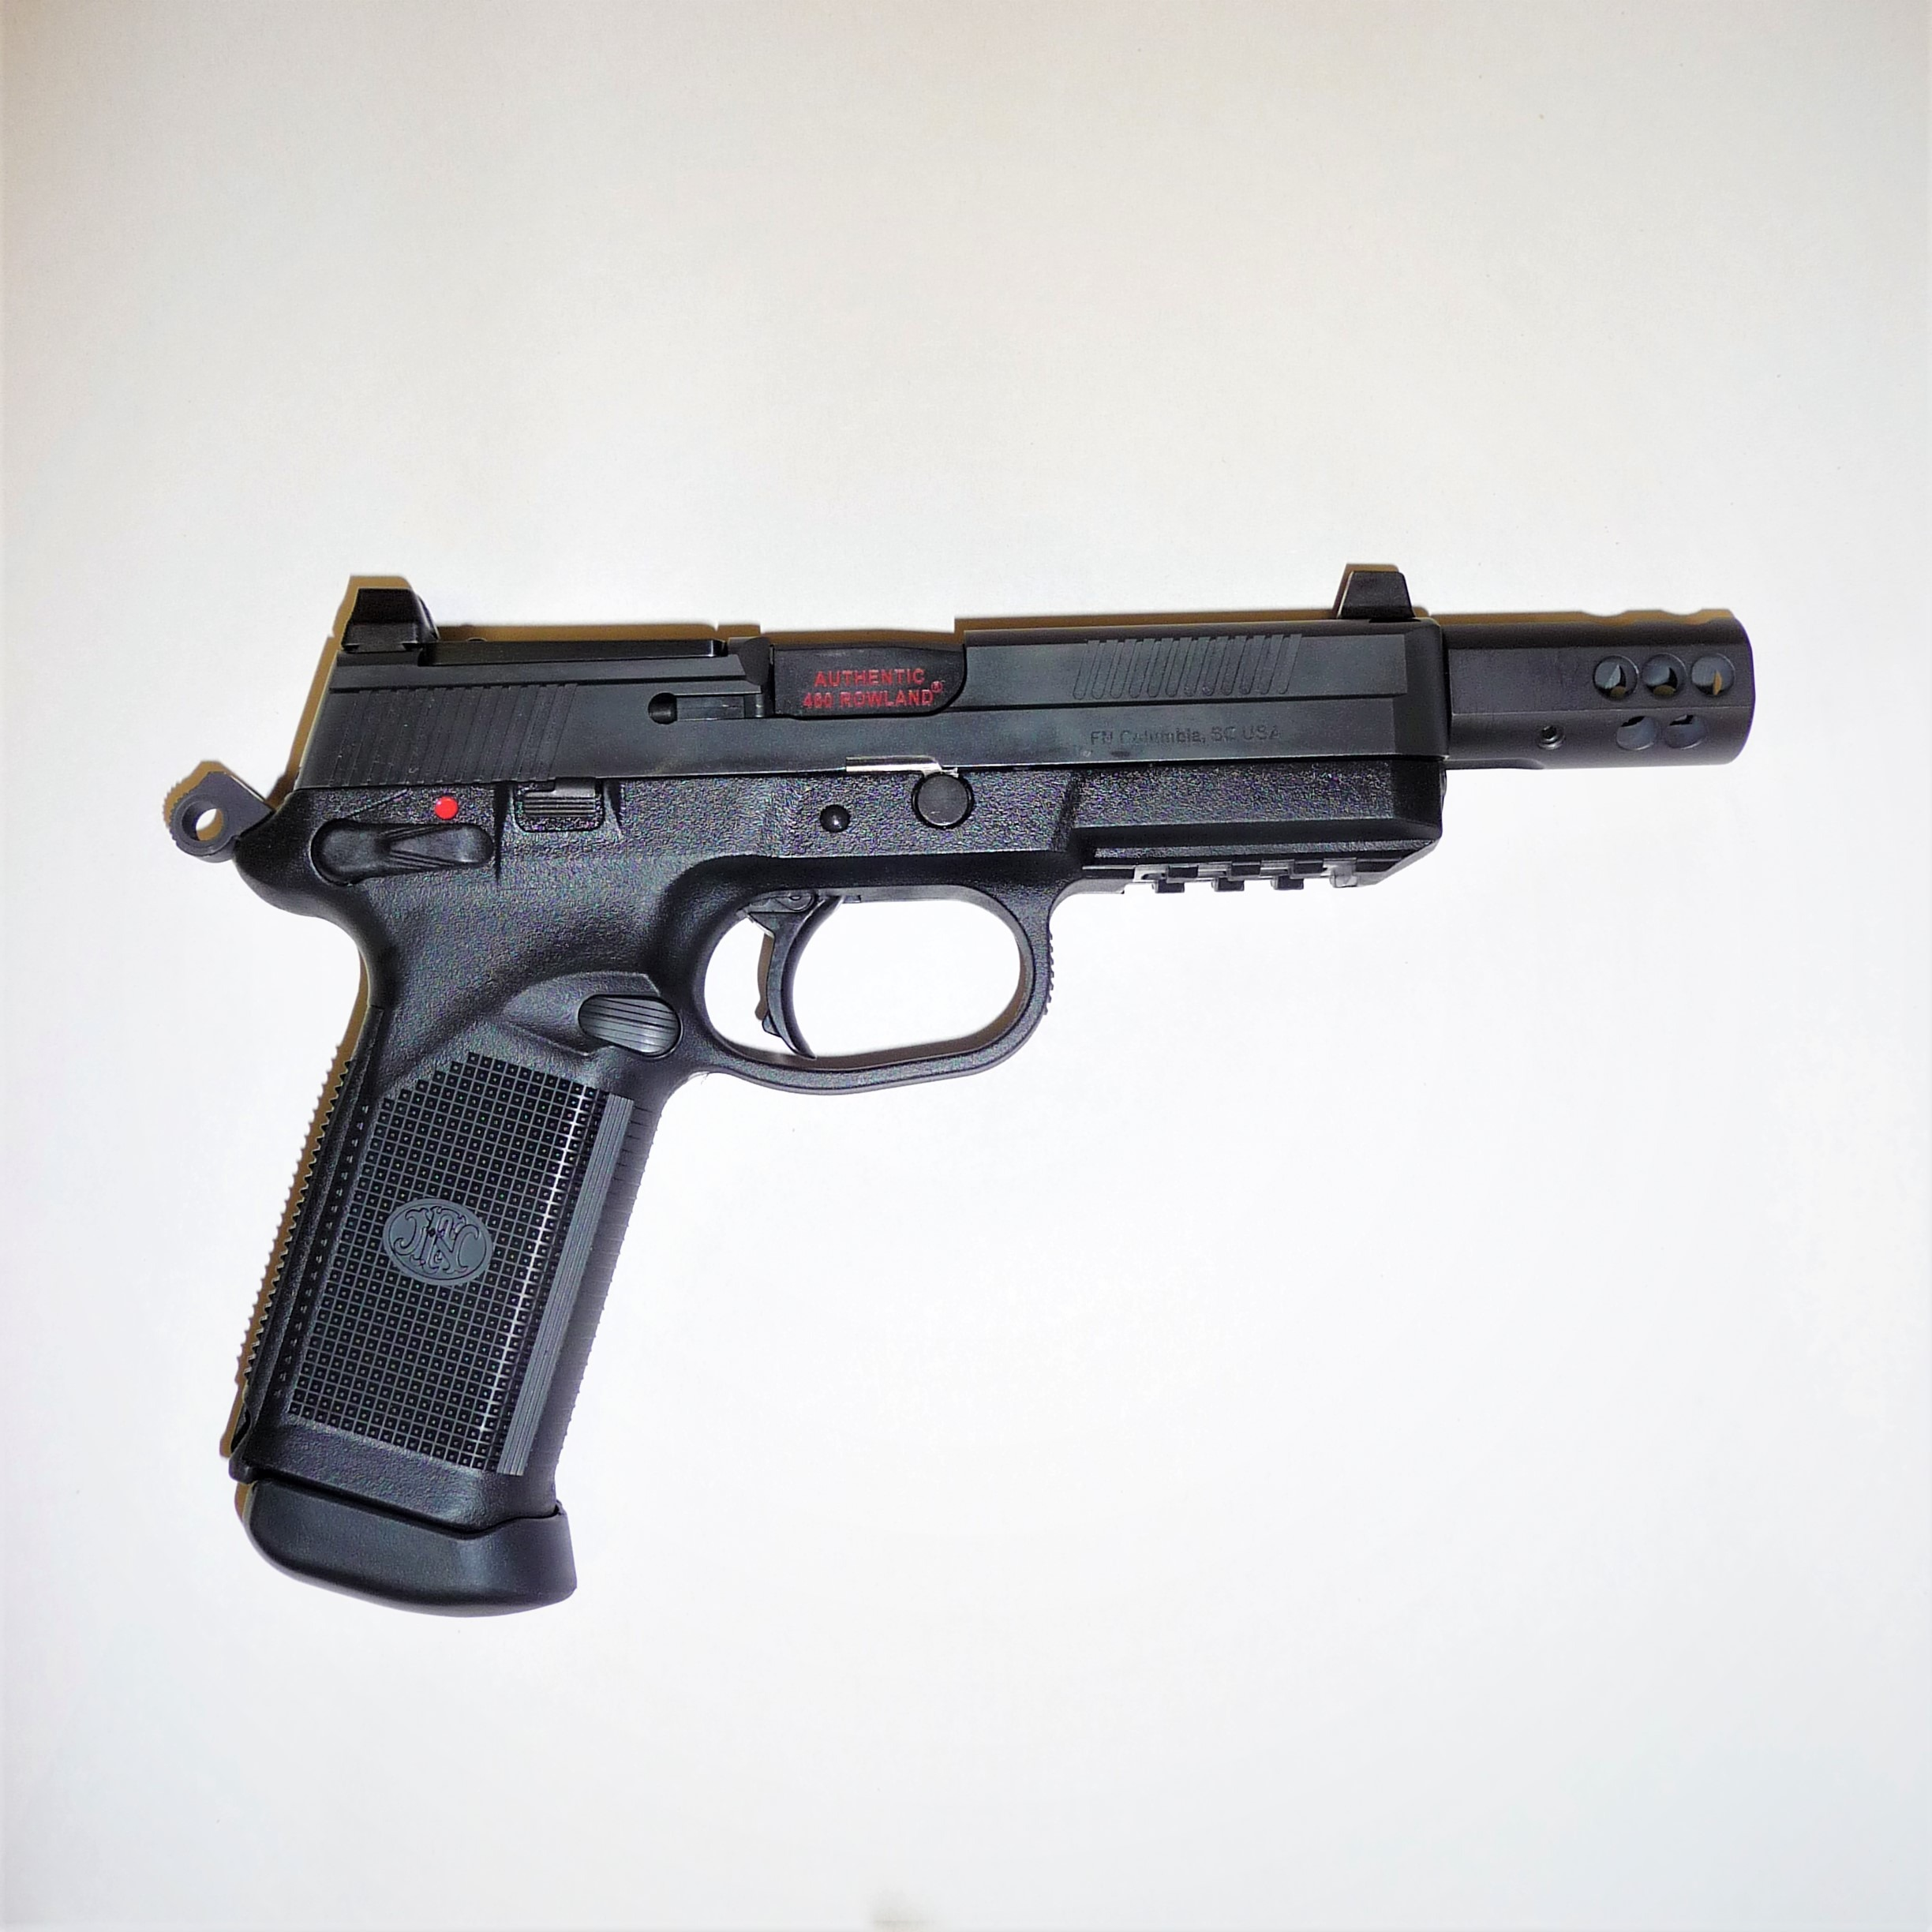gun: (170, 556, 1767, 1614)
